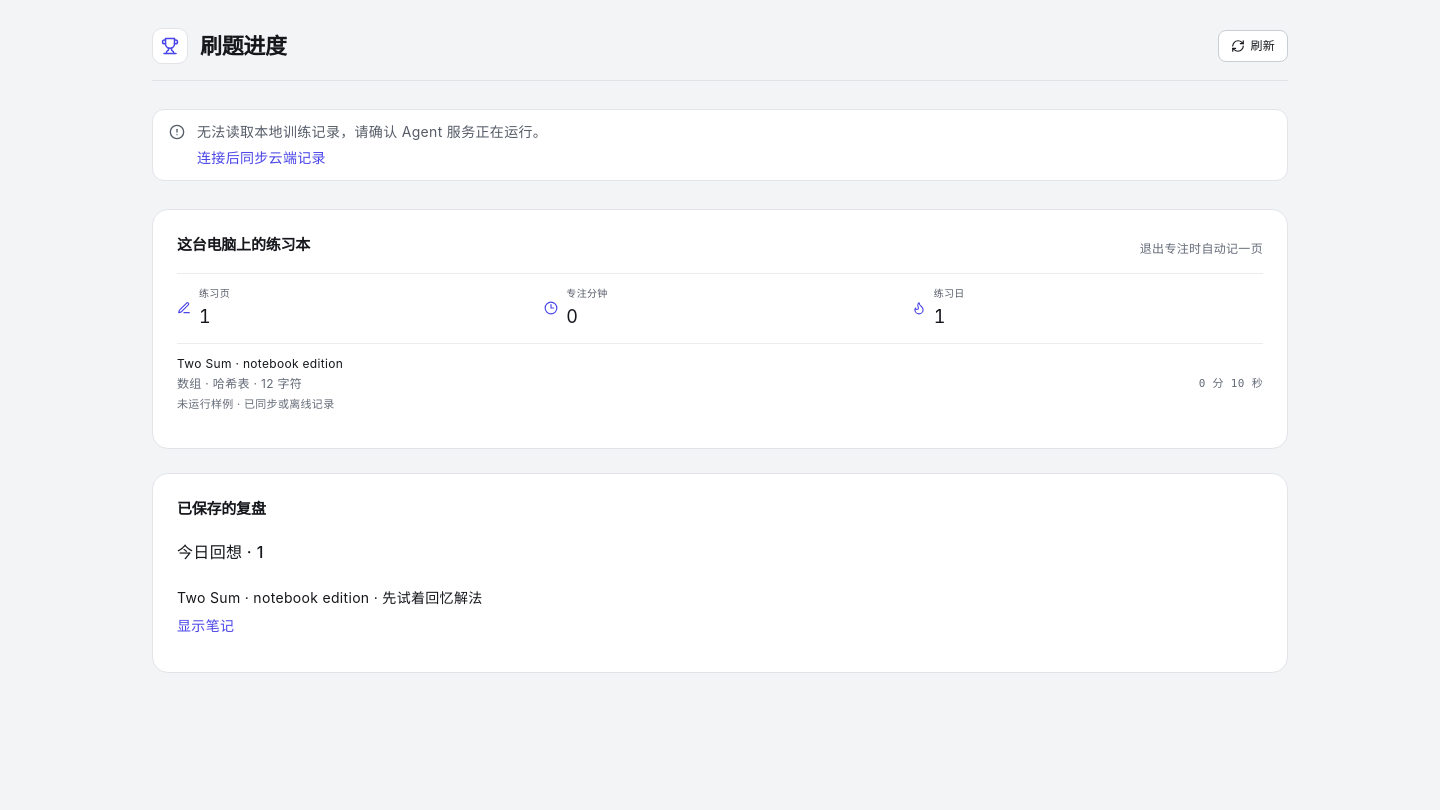
Test: shows due reviews without exposing their notes, then schedules after self-rating
Expected: the text "检查数组边界" is not shown
Click the button "显示笔记" at (206, 626), box [177,616,234,636]
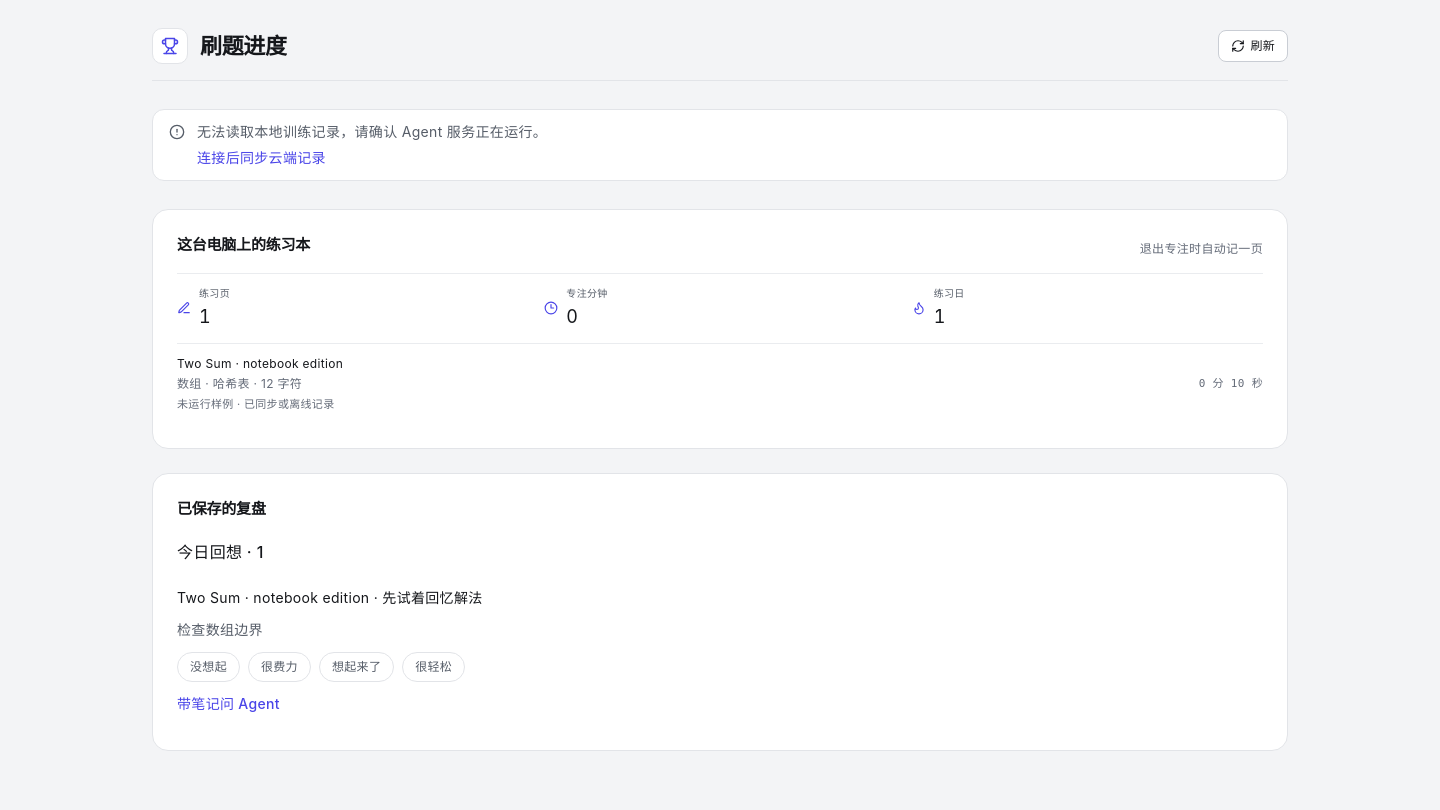
Result: the text "检查数组边界" is shown at [177,621,263,638]
Click the button "想起来了" at (357, 667), box [319,652,394,682]
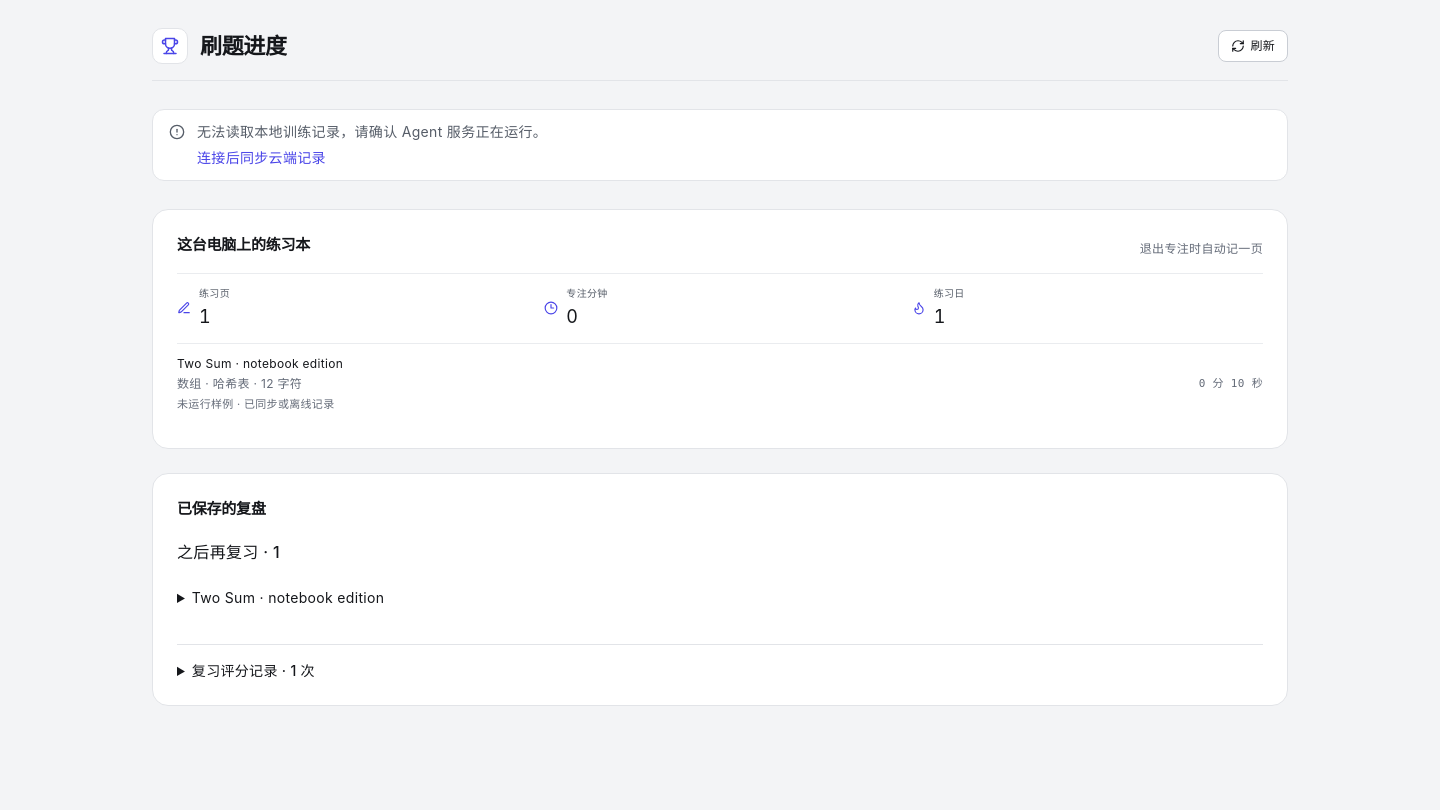
Result: the text "之后再复习 · 1" is shown at [177,542,280,562]
Result: the text "复习评分记录 · 1" is shown at [192,662,315,679]
